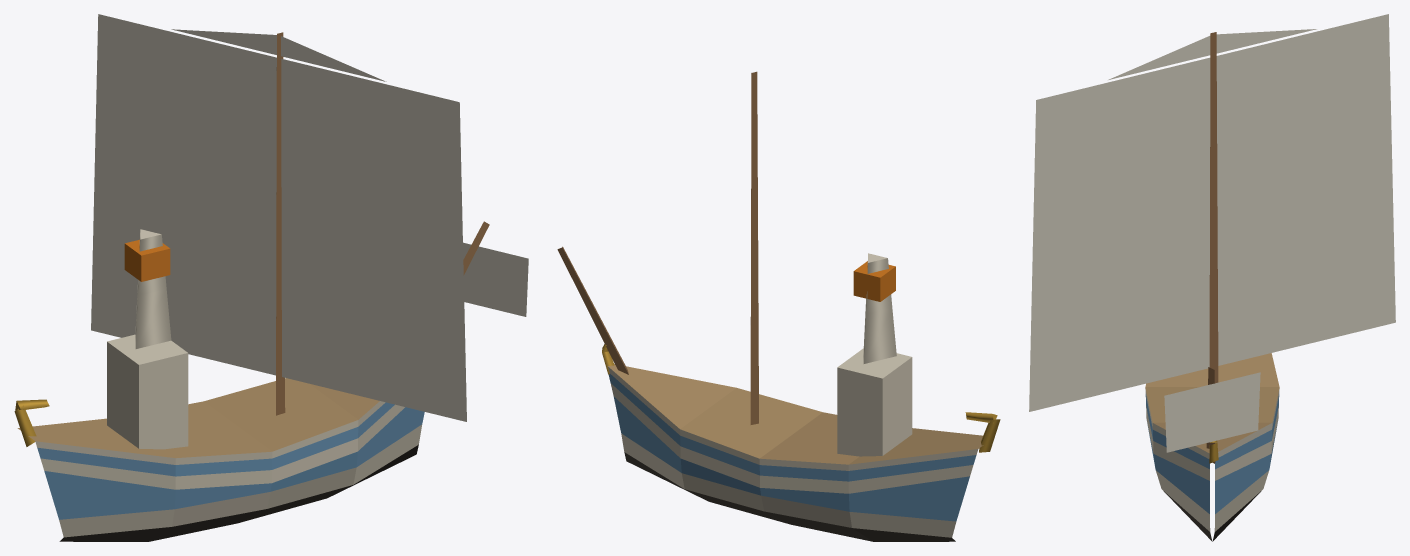
The model's file is titan_usds_lod.glb.
The picture shows the model from 3 angles, left to right: view 1: azimuth 30°, elevation 25°; view 2: azimuth 150°, elevation 25°; view 3: azimuth 270°, elevation 25°; orthographic projection. The views are drawn at different scales.
Visible parts, largest first — view 1: lod; view 2: lod; view 3: lod.
Boxes of the visible parts, x1,y1,x2,y2 form: lod: [14, 14, 528, 541]; lod: [557, 71, 1000, 541]; lod: [1029, 14, 1395, 541].
Size of the model in its own units: 26.3 by 24.61 by 17.44.
